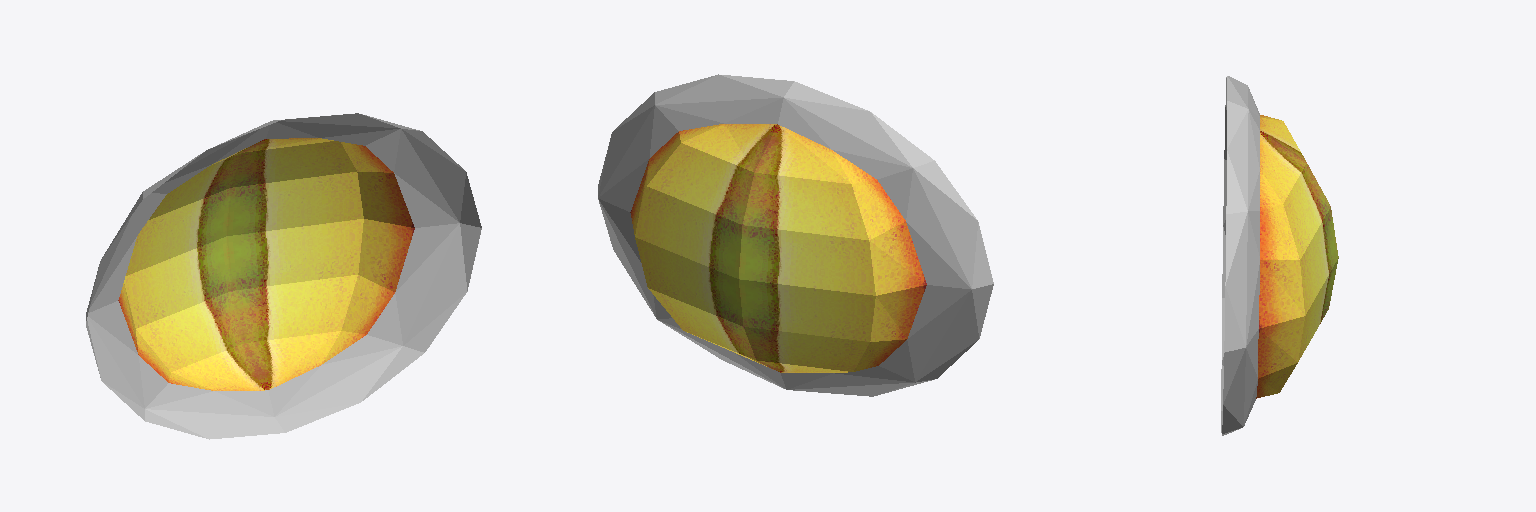
The picture shows the model from 3 angles: view 1: azimuth 30°, elevation 25°; view 2: azimuth 150°, elevation 25°; view 3: azimuth 270°, elevation 25°; orthographic projection.
Bounding box in the file's own units: 80 × 59.99 × 20.52.
2 materials, 1 textured.